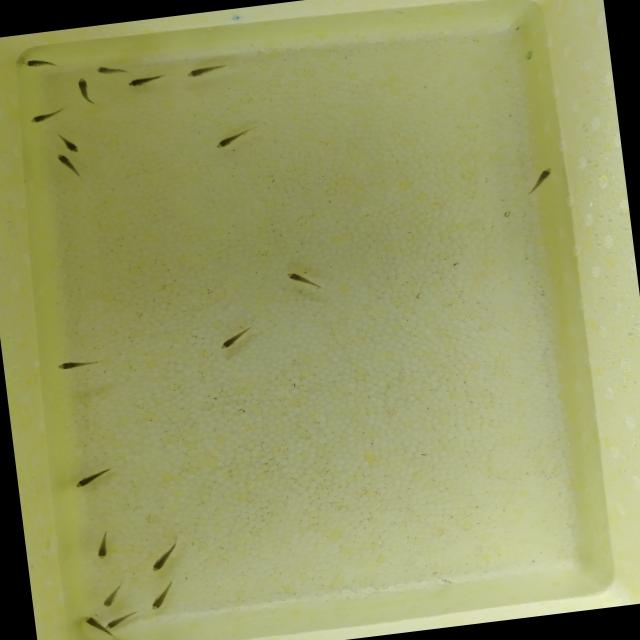fingerling: (518, 154, 562, 203), (282, 264, 338, 300), (206, 122, 264, 154), (210, 320, 263, 354), (142, 576, 182, 614), (144, 536, 184, 574), (68, 462, 122, 490), (52, 354, 104, 374), (88, 528, 118, 562), (24, 104, 70, 126), (181, 60, 229, 80), (22, 54, 66, 73), (98, 580, 126, 609), (56, 151, 82, 182), (74, 75, 94, 110), (125, 73, 167, 89), (54, 129, 81, 152), (94, 62, 132, 78), (80, 612, 100, 628), (102, 616, 123, 631)
